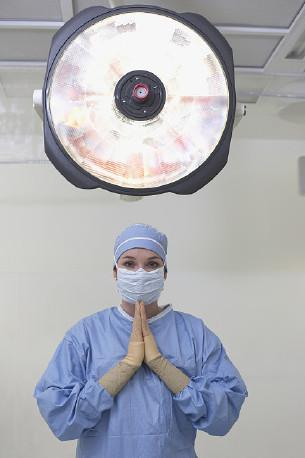OK: (116, 250, 173, 307)
